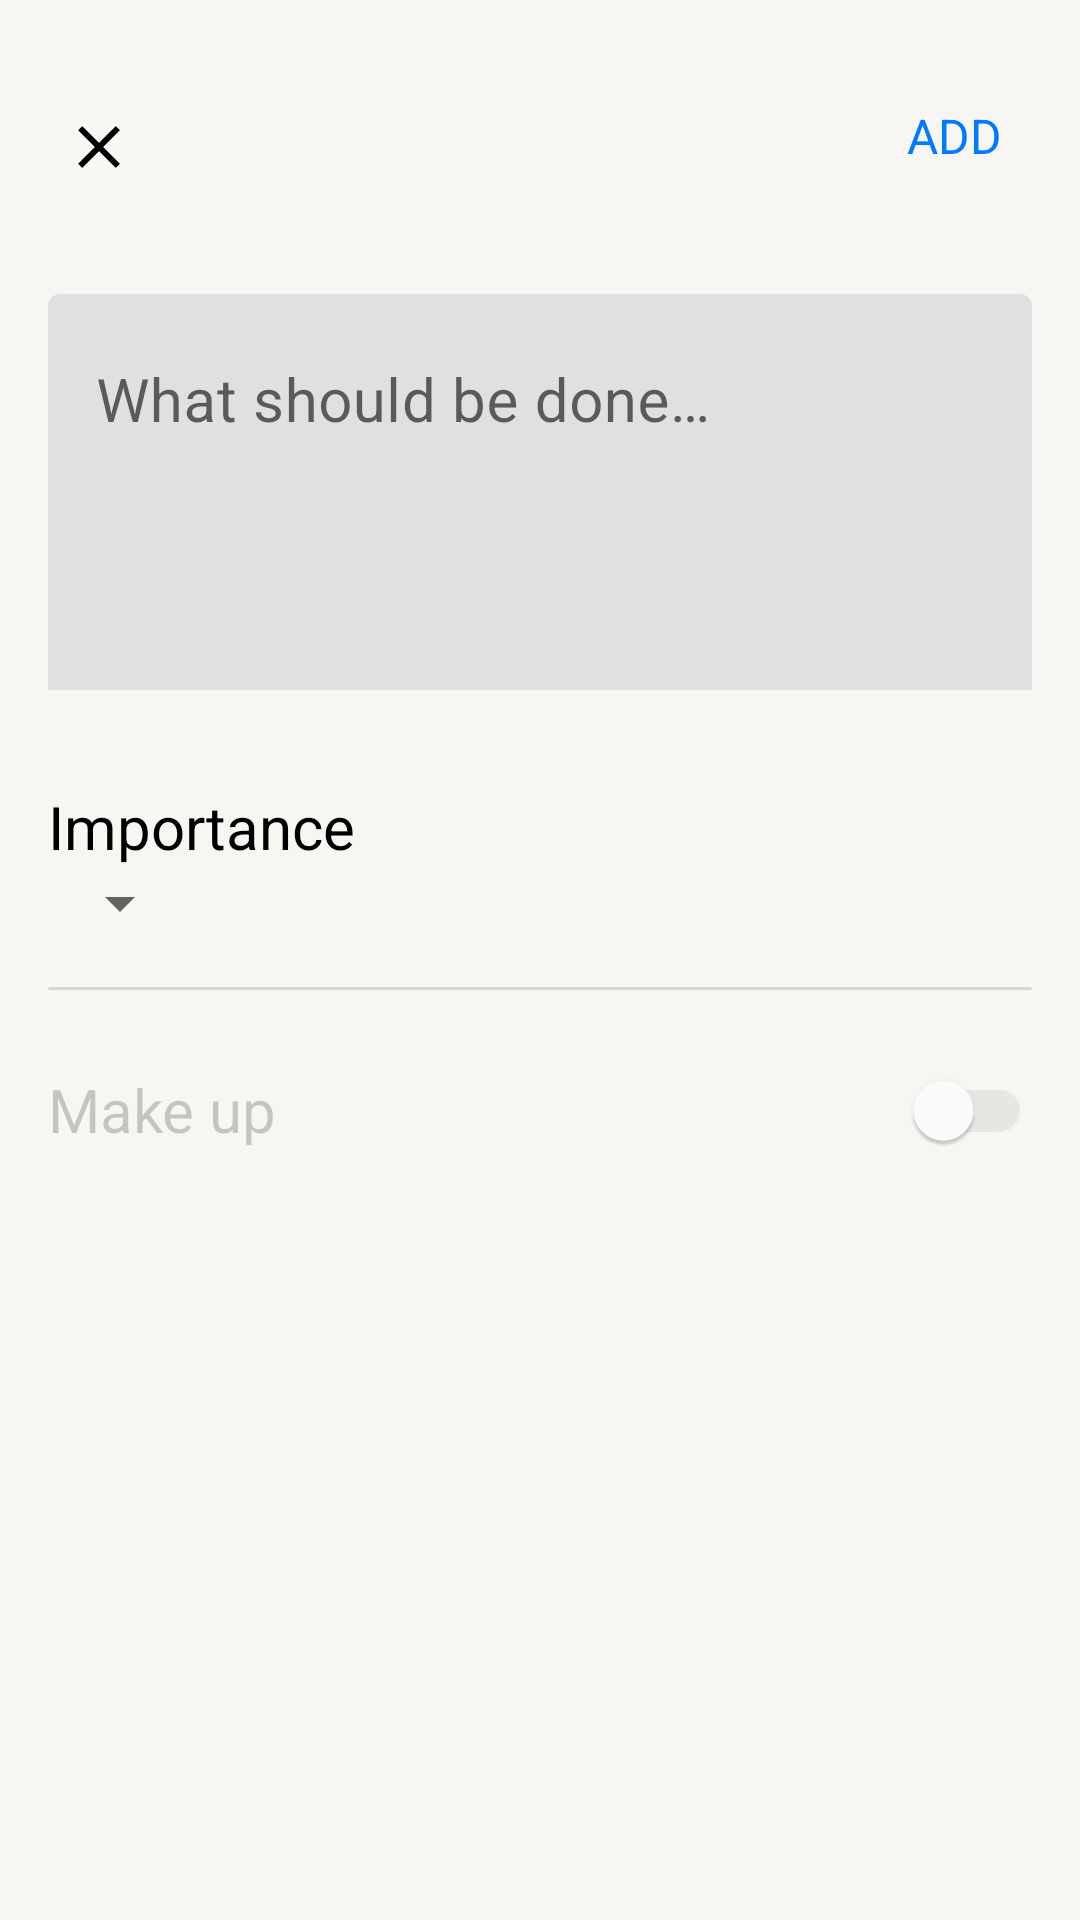

Icons on this 1080×1920 Android screen, each with the point to tap as (x,y):
Cancel: (99,147)
